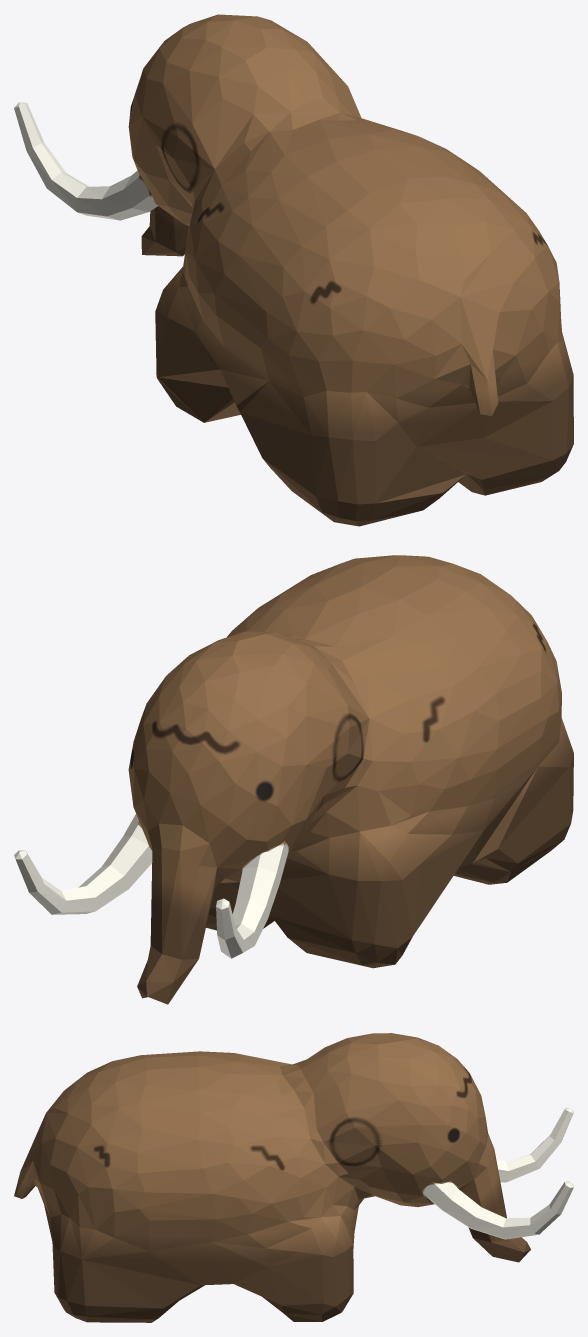
Rendered from animal_mastodon_blob.obj.
3 renders of one model, top to bottom at view 1: azimuth 30°, elevation 25°; view 2: azimuth 150°, elevation 25°; view 3: azimuth 270°, elevation 25°, orthographic. The views are drawn at different scales.
Visible parts, largest first — view 1: animal_mastodon_blob; view 2: animal_mastodon_blob; view 3: animal_mastodon_blob.
Part boxes in pixels (x1,y1,x2,y2): animal_mastodon_blob: (14, 14, 573, 526); animal_mastodon_blob: (14, 555, 573, 1004); animal_mastodon_blob: (14, 1033, 573, 1322).
Bounding box in the file's own units: 1.51 × 1.69 × 3.45.
